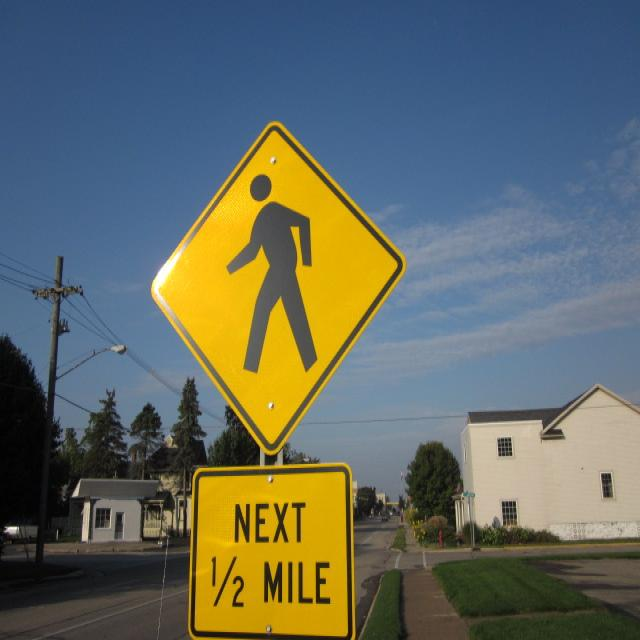warning: (154, 119, 404, 455)
